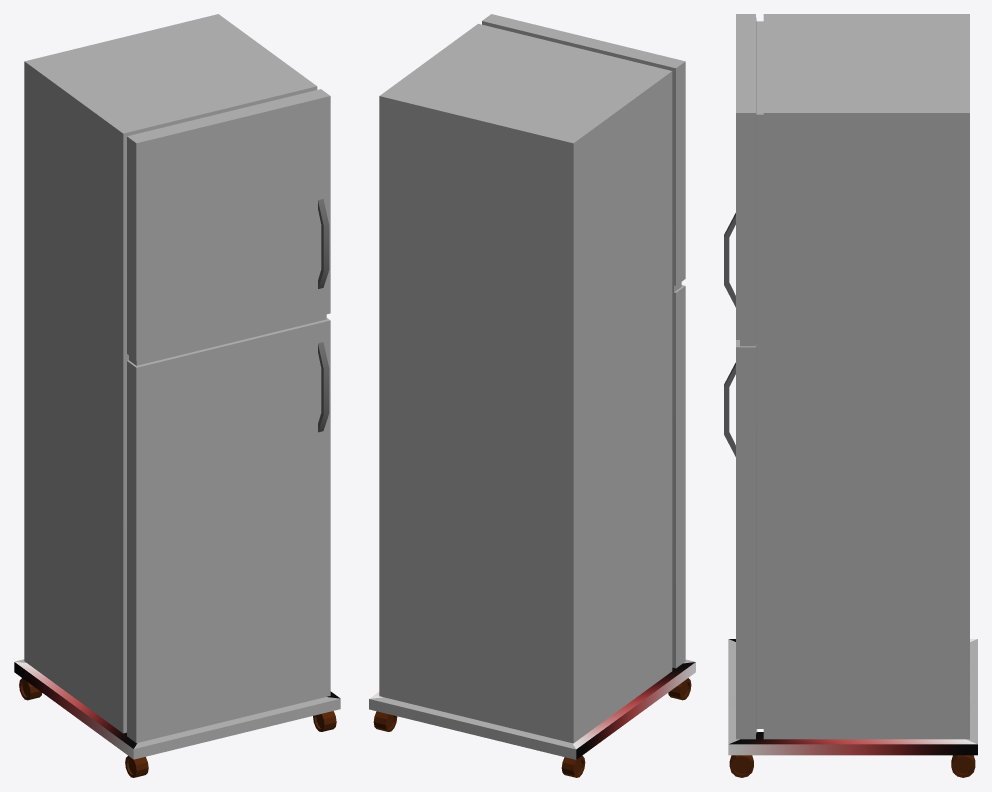
Rendered from refrigerator.fbx.
3 renders of one model, left to right at view 1: azimuth 30°, elevation 25°; view 2: azimuth 150°, elevation 25°; view 3: azimuth 270°, elevation 25°, orthographic. The views are drawn at different scales.
Parts seen in each view (by area): view 1: pCube3, stand, pCube4, pCube5; view 2: pCube3, stand; view 3: pCube3, stand, pCube4, pCube5, wheel, wheel2.
Boxes of the visible parts, box(x1,y1,x2,y2) form: pCube3: box(24, 14, 330, 743); stand: box(14, 659, 340, 759); pCube4: box(318, 199, 329, 288); pCube5: box(318, 342, 329, 432); pCube3: box(379, 14, 685, 743); stand: box(369, 659, 695, 759); pCube3: box(736, 14, 969, 739); stand: box(728, 639, 977, 755); pCube4: box(724, 213, 735, 307); pCube5: box(724, 362, 735, 456); wheel: box(729, 755, 753, 777); wheel2: box(951, 755, 975, 777).
Bounding box in the file's own units: 107 × 313 × 108.
Materials: 2 (1 with a texture image).
